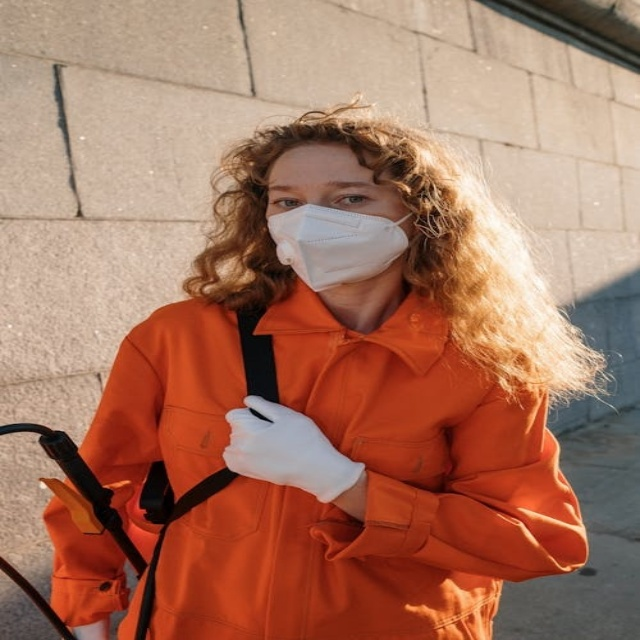Guantes: (223, 394, 366, 502)
Mascara: (265, 203, 415, 291)
Sin_gafas: (262, 177, 389, 211)
